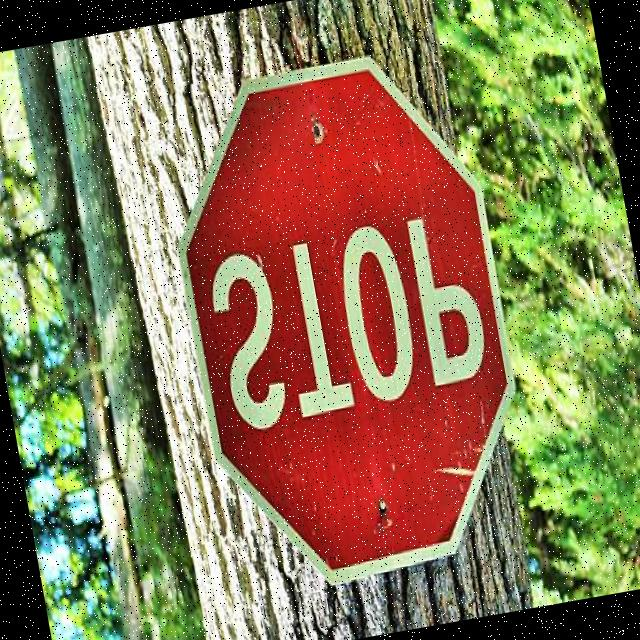stop: (137, 29, 555, 610)
